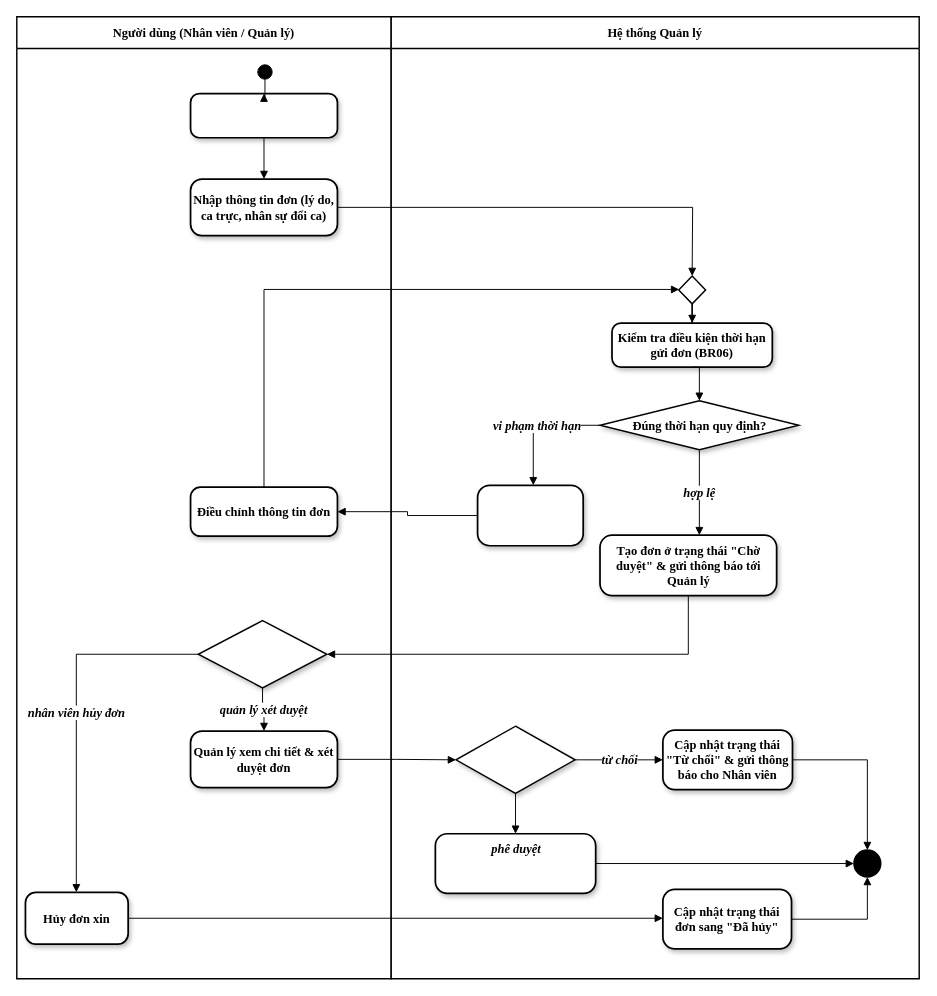
The diagram is 937 pixels wide and 996 high, and some of its shapes have lost their labels. The centre of each missing label's shape, as x and y in pixels:
Chọn chức năng Tạo đơn đổi ca / nghỉ phép: point (264, 116)
Cập nhật trạng thái "Đã duyệt" & tự động cập nhật lại Lịch trực: point (516, 864)
Hành động trên đơn?: point (263, 655)
Kết quả duyệt?: point (516, 760)
Thông báo lỗi vi phạm quy định: point (530, 516)
